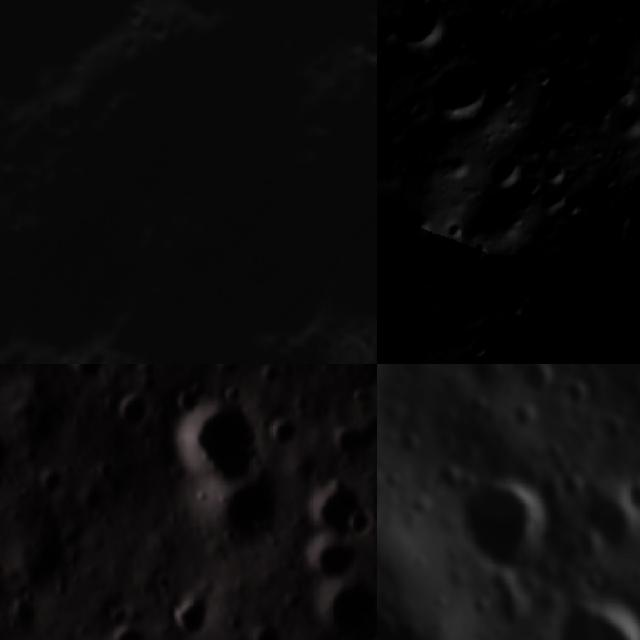crater: (447, 153, 556, 265), (458, 472, 562, 584), (411, 37, 512, 140), (156, 400, 256, 500), (206, 477, 280, 553), (379, 0, 459, 69), (578, 489, 640, 563), (548, 599, 640, 640), (319, 577, 376, 640), (392, 195, 448, 254), (377, 129, 419, 203), (478, 144, 534, 199), (596, 188, 640, 249), (298, 487, 360, 529), (296, 541, 362, 576), (99, 393, 143, 440), (509, 364, 560, 404), (537, 148, 580, 192), (605, 97, 640, 146), (561, 377, 597, 422), (555, 188, 594, 229), (172, 594, 206, 640), (601, 71, 640, 109), (594, 410, 632, 448), (262, 416, 296, 449), (395, 428, 428, 462), (619, 471, 640, 520), (493, 600, 525, 632), (76, 492, 113, 519), (58, 364, 107, 384), (32, 466, 61, 499), (377, 66, 391, 127), (334, 430, 367, 455), (464, 388, 492, 416), (6, 601, 33, 630), (345, 514, 374, 537), (248, 621, 279, 640), (257, 366, 281, 388), (308, 402, 330, 422), (104, 606, 125, 624), (108, 632, 145, 640), (630, 390, 640, 419)
